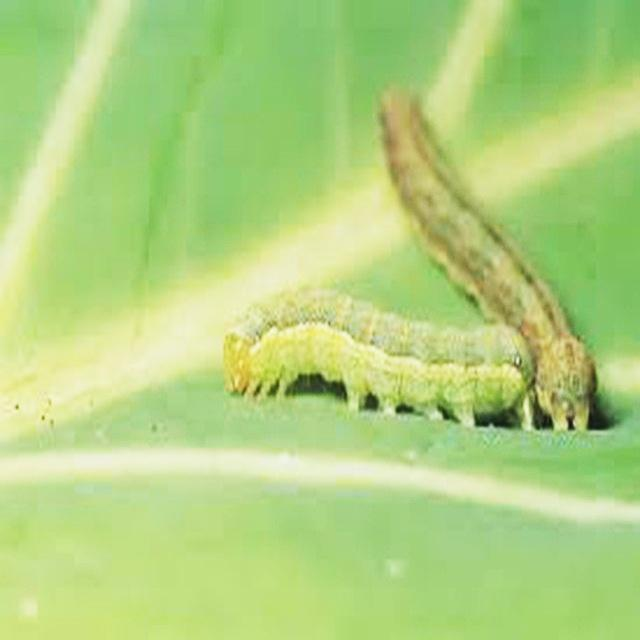gusano_cogollero: (220, 84, 600, 427)
